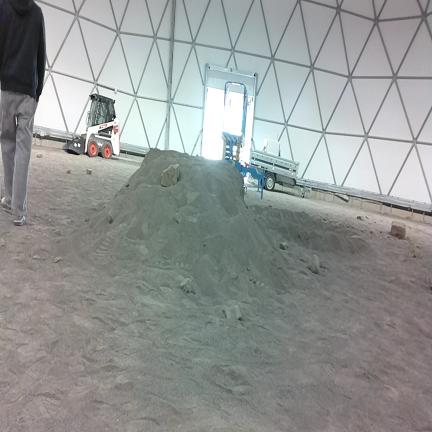Rock: (161, 164, 179, 186), (390, 221, 406, 240), (223, 306, 241, 320), (180, 278, 195, 293), (309, 255, 319, 273), (412, 248, 422, 259), (234, 305, 241, 320), (299, 231, 310, 240), (174, 212, 182, 224), (426, 275, 431, 290), (108, 213, 114, 224), (280, 242, 288, 250), (231, 271, 237, 280), (18, 253, 24, 261), (54, 257, 62, 263), (55, 228, 61, 235), (33, 255, 41, 260), (0, 238, 5, 246), (36, 153, 43, 158), (357, 216, 364, 220), (256, 281, 260, 286), (87, 169, 91, 174), (253, 280, 257, 284), (66, 170, 70, 174), (278, 266, 282, 270), (247, 267, 251, 271), (250, 276, 253, 281), (85, 218, 89, 221), (261, 283, 264, 287), (370, 230, 373, 234), (365, 216, 369, 219), (204, 243, 206, 247), (380, 230, 382, 234)
